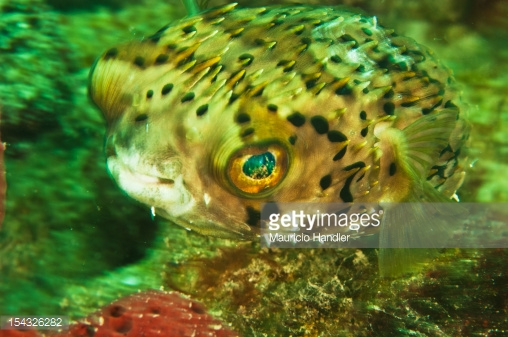Diodon_holocanthus: (79, 1, 477, 293)
